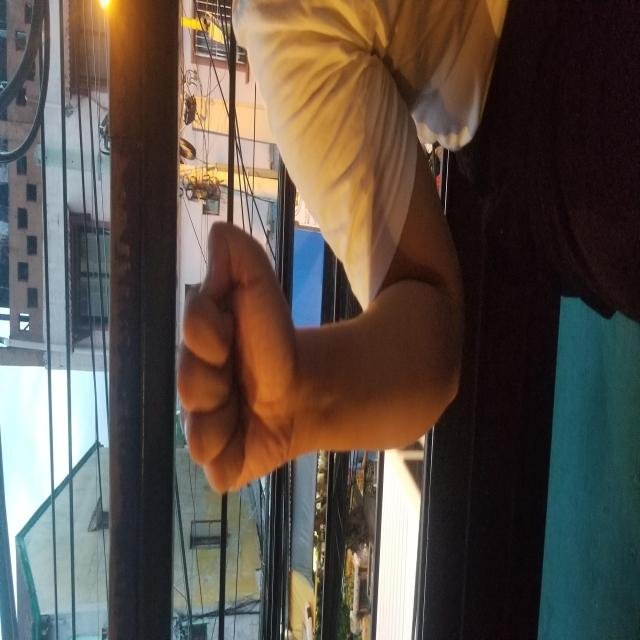A: (140, 176, 422, 298)
